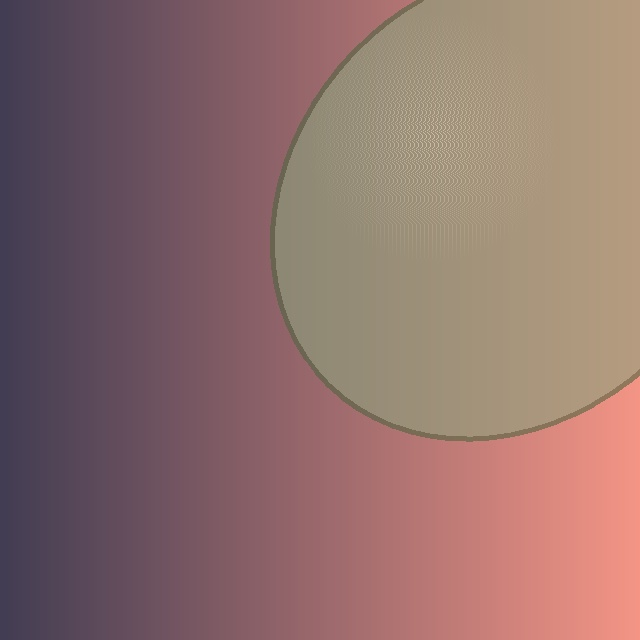lens: (272, 0, 640, 437)
